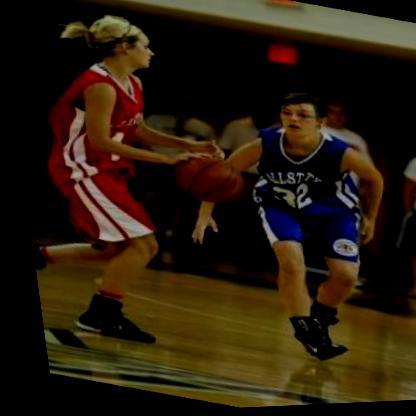basketball: (152, 140, 251, 219)
